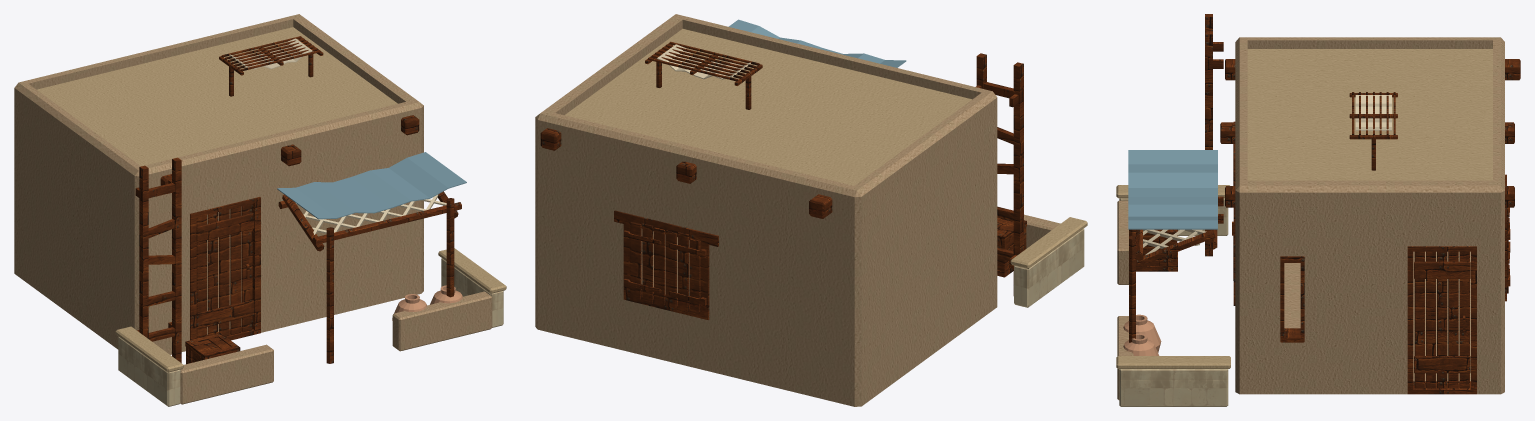
File: house-limestone.glb
3 renders of one model, left to right at view 1: azimuth 30°, elevation 25°; view 2: azimuth 150°, elevation 25°; view 3: azimuth 270°, elevation 25°, orthographic. The views are drawn at different scales.
Visible parts, largest first — view 1: house-limestone|3dtextures-lime-plaster, house-limestone|3dtextures-limestone-coping, house-limestone|3dtextures-aged-wood, house-limestone|faded-indigo-cloth, house-limestone|3dtextures-dressed-limestone, house-limestone|woven-linen, house-limestone|fired-clay; view 2: house-limestone|3dtextures-lime-plaster, house-limestone|3dtextures-limestone-coping, house-limestone|3dtextures-aged-wood, house-limestone|3dtextures-dressed-limestone, house-limestone|faded-indigo-cloth, house-limestone|woven-linen; view 3: house-limestone|3dtextures-lime-plaster, house-limestone|3dtextures-limestone-coping, house-limestone|3dtextures-aged-wood, house-limestone|faded-indigo-cloth, house-limestone|3dtextures-dressed-limestone, house-limestone|woven-linen, house-limestone|fired-clay.
Boxes of the visible parts, bbox=[...] form: house-limestone|3dtextures-lime-plaster: bbox=[14, 14, 492, 404]; house-limestone|3dtextures-limestone-coping: bbox=[37, 27, 506, 372]; house-limestone|3dtextures-aged-wood: bbox=[135, 36, 461, 364]; house-limestone|faded-indigo-cloth: bbox=[277, 152, 466, 219]; house-limestone|3dtextures-dressed-limestone: bbox=[118, 258, 503, 406]; house-limestone|woven-linen: bbox=[229, 38, 446, 234]; house-limestone|fired-clay: bbox=[392, 285, 462, 320]; house-limestone|3dtextures-lime-plaster: bbox=[535, 14, 1060, 406]; house-limestone|3dtextures-limestone-coping: bbox=[565, 29, 1087, 268]; house-limestone|3dtextures-aged-wood: bbox=[540, 41, 1026, 319]; house-limestone|3dtextures-dressed-limestone: bbox=[1014, 228, 1084, 307]; house-limestone|faded-indigo-cloth: bbox=[729, 19, 906, 67]; house-limestone|woven-linen: bbox=[657, 44, 750, 79]; house-limestone|3dtextures-lime-plaster: bbox=[1117, 37, 1504, 399]; house-limestone|3dtextures-limestone-coping: bbox=[1116, 49, 1492, 368]; house-limestone|3dtextures-aged-wood: bbox=[1129, 14, 1520, 394]; house-limestone|faded-indigo-cloth: bbox=[1128, 150, 1217, 229]; house-limestone|3dtextures-dressed-limestone: bbox=[1119, 198, 1228, 406]; house-limestone|woven-linen: bbox=[1143, 95, 1391, 255]; house-limestone|fired-clay: bbox=[1123, 314, 1161, 355].
Size of the model in its own units: 6.17 by 3.74 by 5.86.
7 materials, 4 textured.
